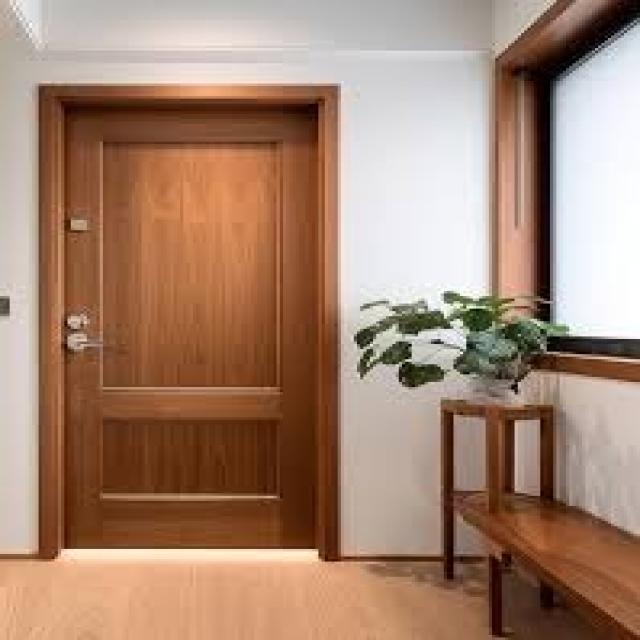door: (58, 94, 325, 550)
